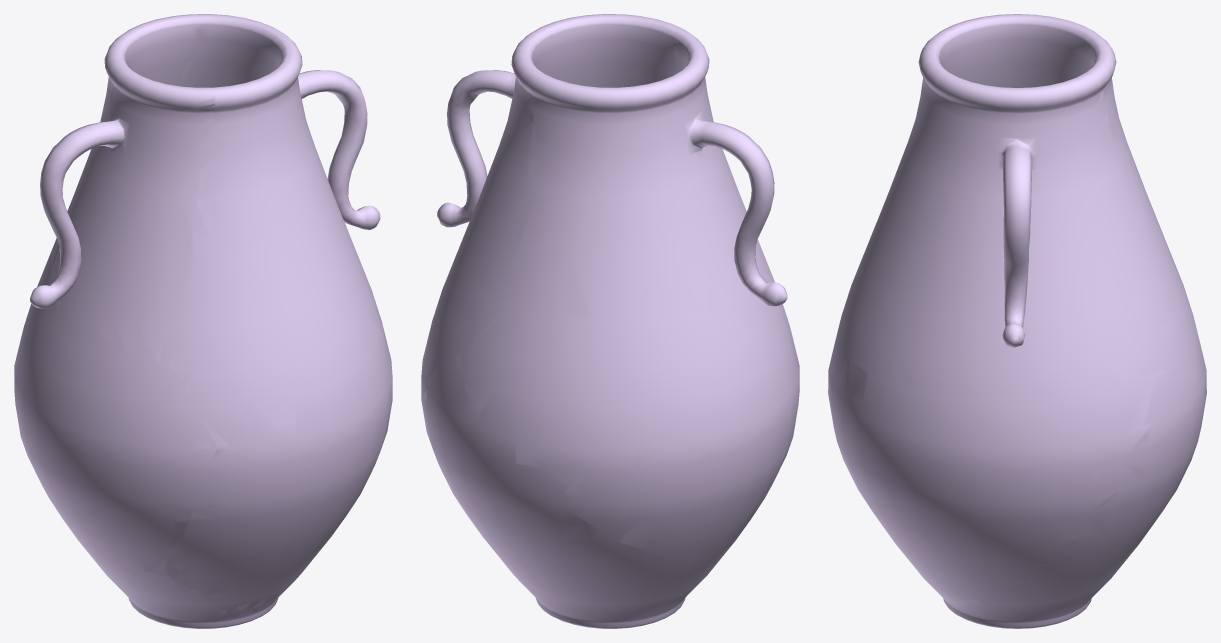
File: Jar1.fbx
The picture shows the model from 3 angles, left to right: view 1: azimuth 30°, elevation 25°; view 2: azimuth 150°, elevation 25°; view 3: azimuth 270°, elevation 25°; orthographic projection.
Visible parts, largest first — view 1: SM_Jar, SM_Jar_Part_4, SM_Jar_Part_2, SM_Jar_Part_5, SM_Jar_Part_3, SM_Jar_Part_1; view 2: SM_Jar, SM_Jar_Part_5, SM_Jar_Part_2, SM_Jar_Part_4, SM_Jar_Part_1, SM_Jar_Part_3; view 3: SM_Jar, SM_Jar_Part_4, SM_Jar_Part_3, SM_Jar_Part_1, SM_Jar_Part_2, SM_Jar_Part_5.
Part boxes in pixels (x1,y1,x2,y2): SM_Jar: (14,14,392,628); SM_Jar_Part_4: (172,14,380,446); SM_Jar_Part_2: (30,14,214,367); SM_Jar_Part_5: (14,254,213,570); SM_Jar_Part_3: (162,315,392,607); SM_Jar_Part_1: (77,539,279,628); SM_Jar: (422,14,799,628); SM_Jar_Part_5: (455,297,799,560); SM_Jar_Part_2: (511,29,786,312); SM_Jar_Part_4: (435,14,682,360); SM_Jar_Part_1: (424,361,732,628); SM_Jar_Part_3: (421,308,449,411); SM_Jar: (828,14,1206,628); SM_Jar_Part_4: (834,38,1168,388); SM_Jar_Part_3: (830,350,1164,603); SM_Jar_Part_1: (941,366,1200,628); SM_Jar_Part_2: (934,14,1145,219); SM_Jar_Part_5: (1167,273,1196,377).
Bounding box in the file's own units: 37.14 × 55.45 × 34.8.
